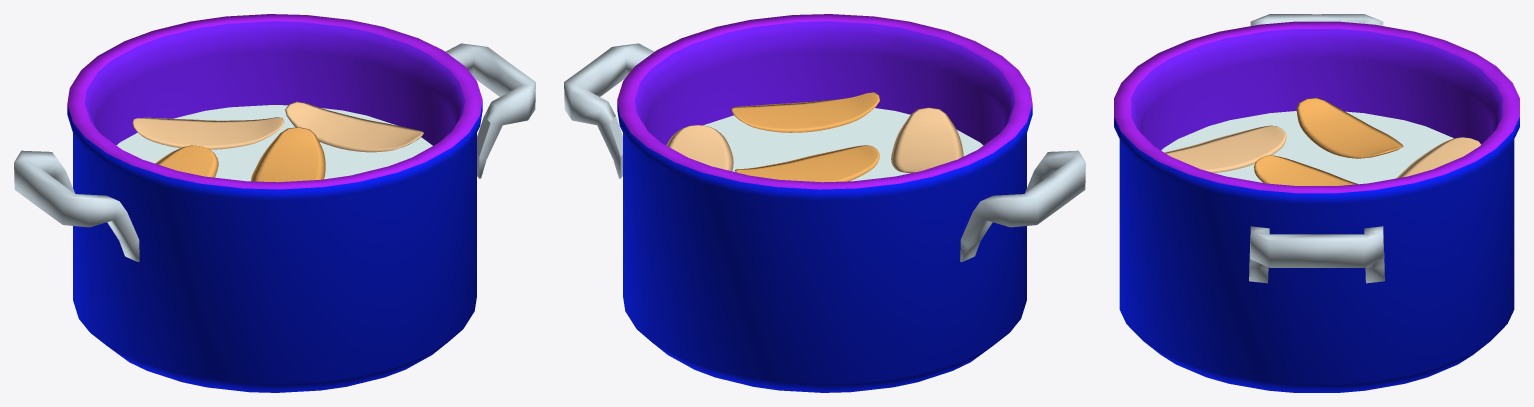
Rendered from PottedOrangePetals.fbx.
3 renders of one model, left to right at view 1: azimuth 30°, elevation 25°; view 2: azimuth 150°, elevation 25°; view 3: azimuth 270°, elevation 25°, orthographic.
Visible parts, largest first — view 1: Body.006, Handles.004, Water.001, Petel.046, Petel.045, Petel.047, Petel.050; view 2: Body.006, Handles.004, Water.001, Petel.048, Petel.049, Petel.047, Petel.046; view 3: Body.006, Water.001, Handles.004, Petel.050, Petel.049, Petel.047, Petel.045.
Part boxes in pixels (x1,y1,x2,y2): Body.006: [67, 14, 482, 392]; Handles.004: [14, 43, 535, 261]; Water.001: [116, 105, 432, 181]; Petel.046: [285, 101, 423, 152]; Petel.045: [132, 117, 284, 149]; Petel.047: [251, 127, 325, 182]; Petel.050: [155, 145, 218, 177]; Body.006: [617, 14, 1032, 392]; Handles.004: [564, 43, 1085, 261]; Water.001: [703, 108, 983, 181]; Petel.048: [731, 92, 879, 132]; Petel.049: [891, 107, 963, 173]; Petel.047: [734, 145, 879, 182]; Petel.046: [666, 125, 733, 171]; Body.006: [1114, 21, 1519, 392]; Water.001: [1161, 111, 1453, 184]; Handles.004: [1249, 14, 1384, 283]; Petel.050: [1296, 97, 1403, 158]; Petel.049: [1164, 125, 1286, 172]; Petel.047: [1254, 155, 1358, 185]; Petel.045: [1396, 137, 1480, 178].
Size of the model in its own units: 83.38 by 35.99 by 62.94.
